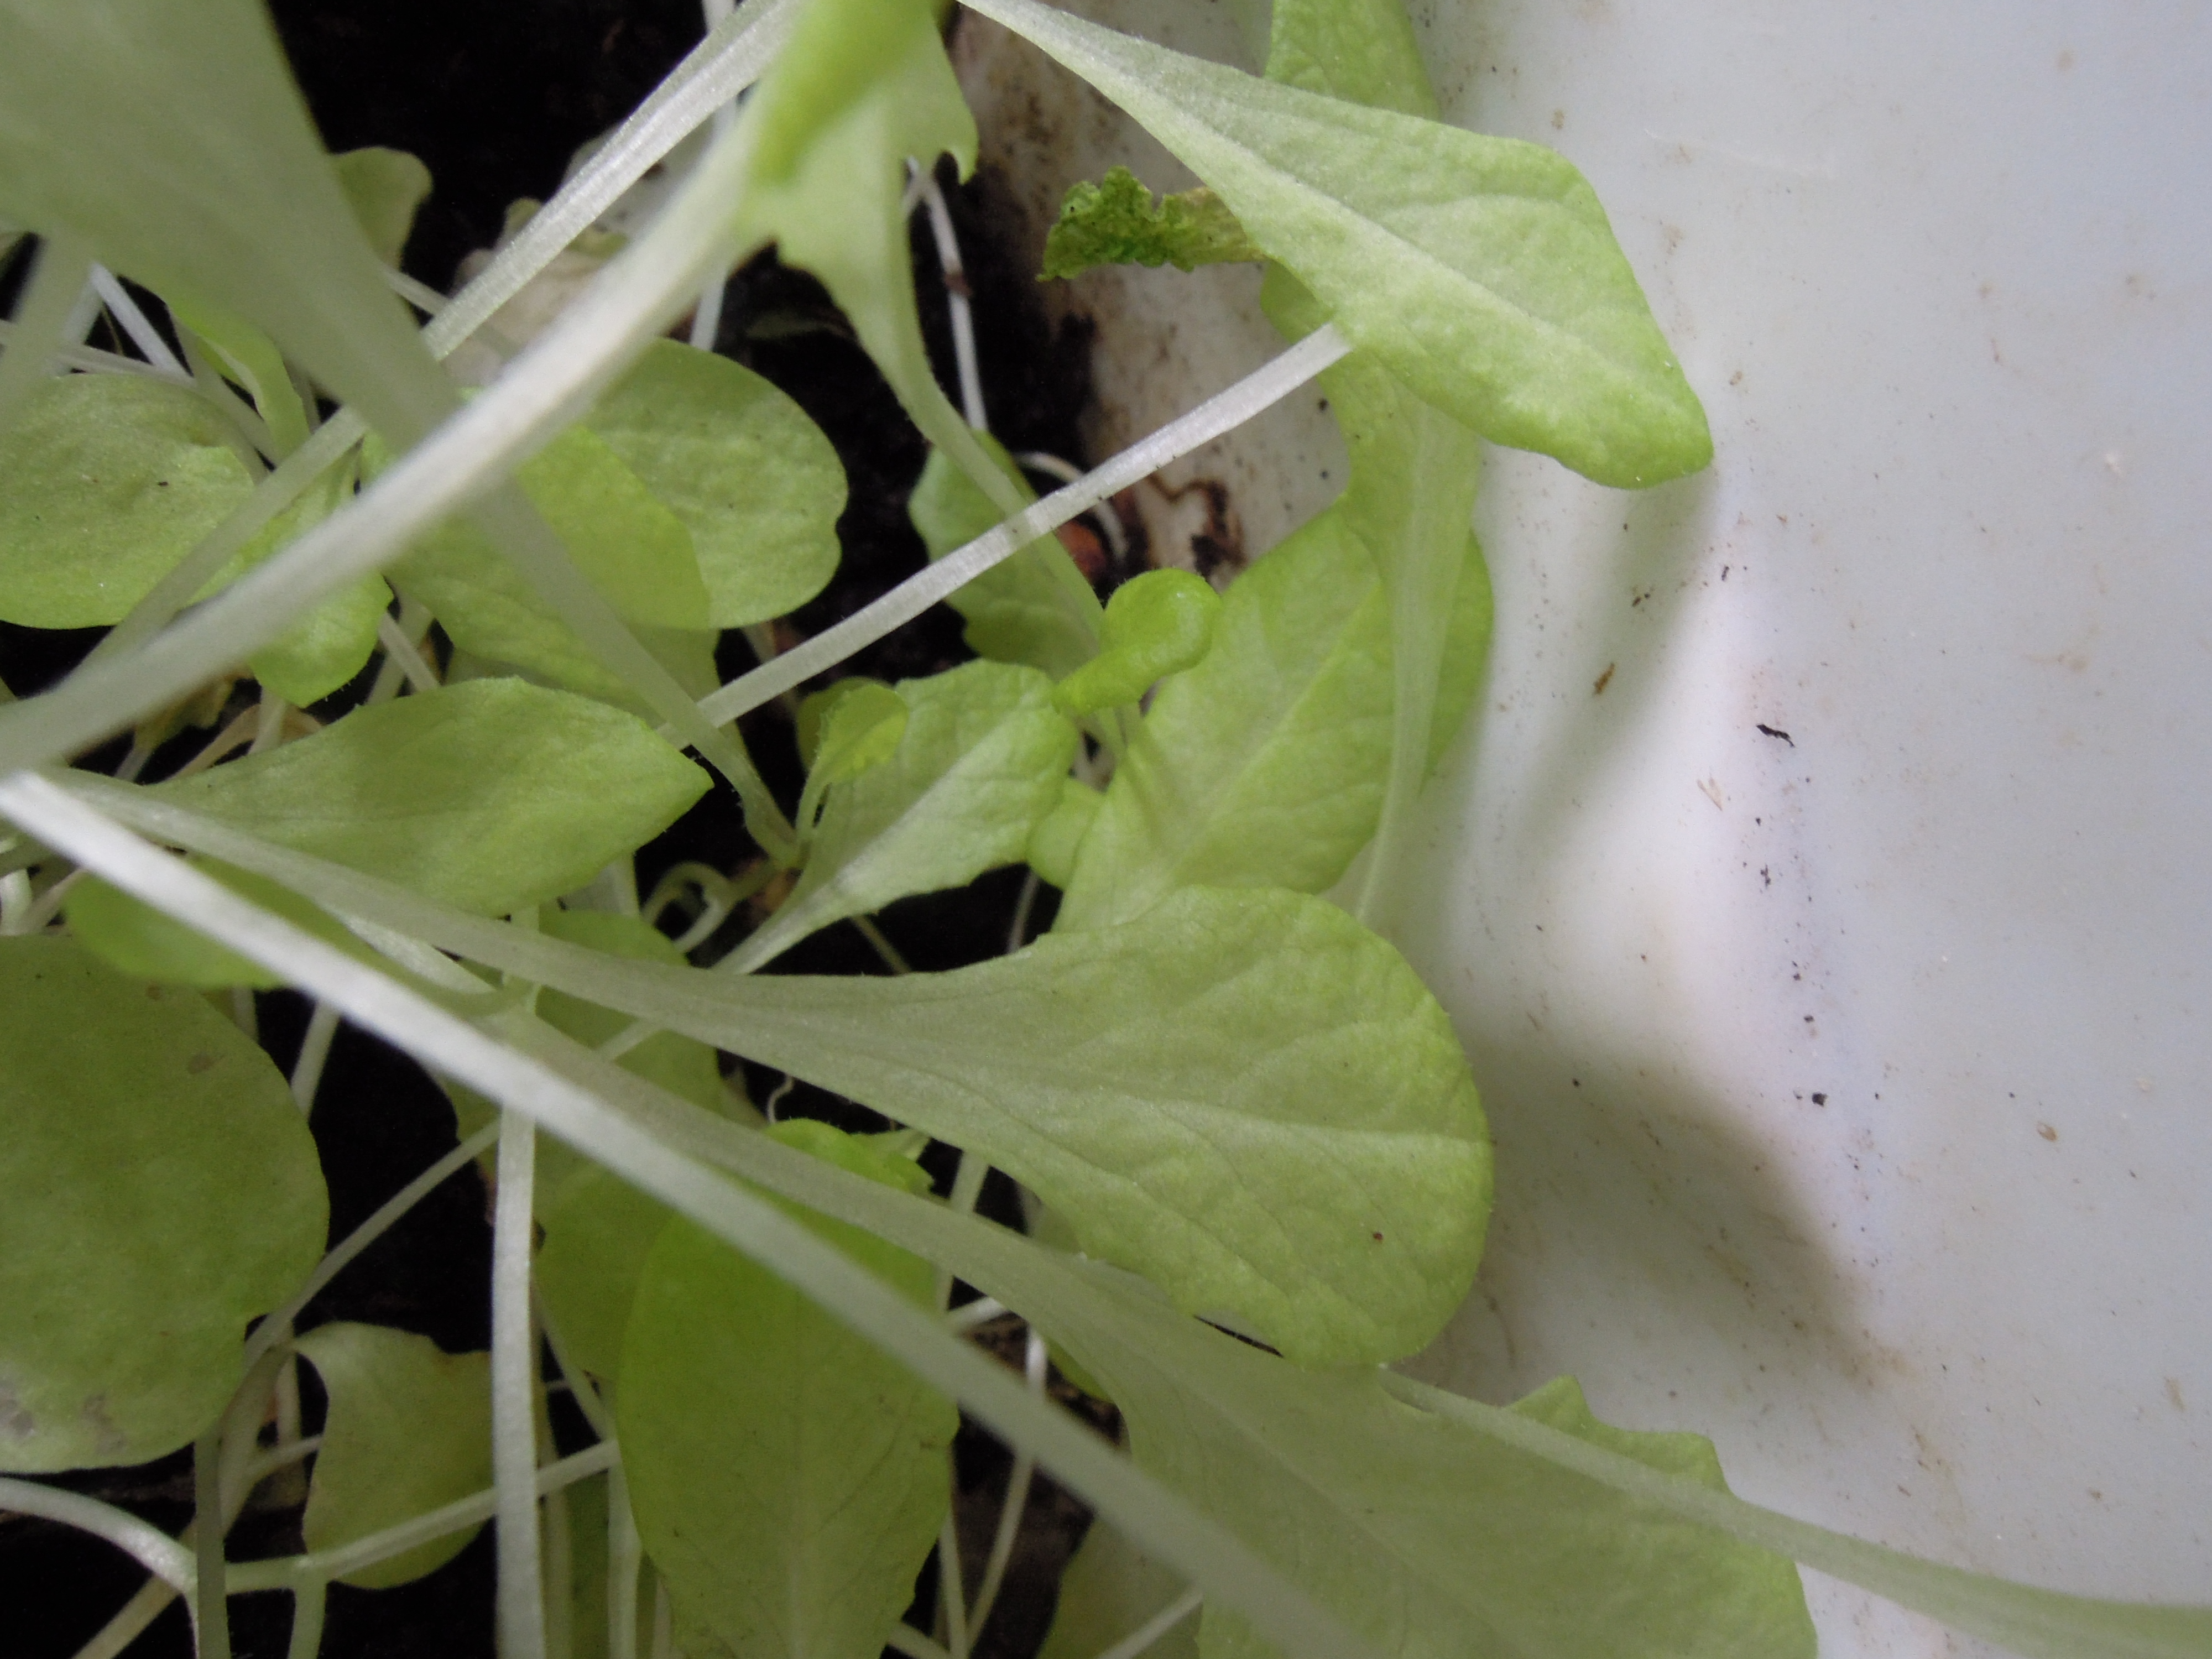weeek6: (9, 28, 1834, 1659)
